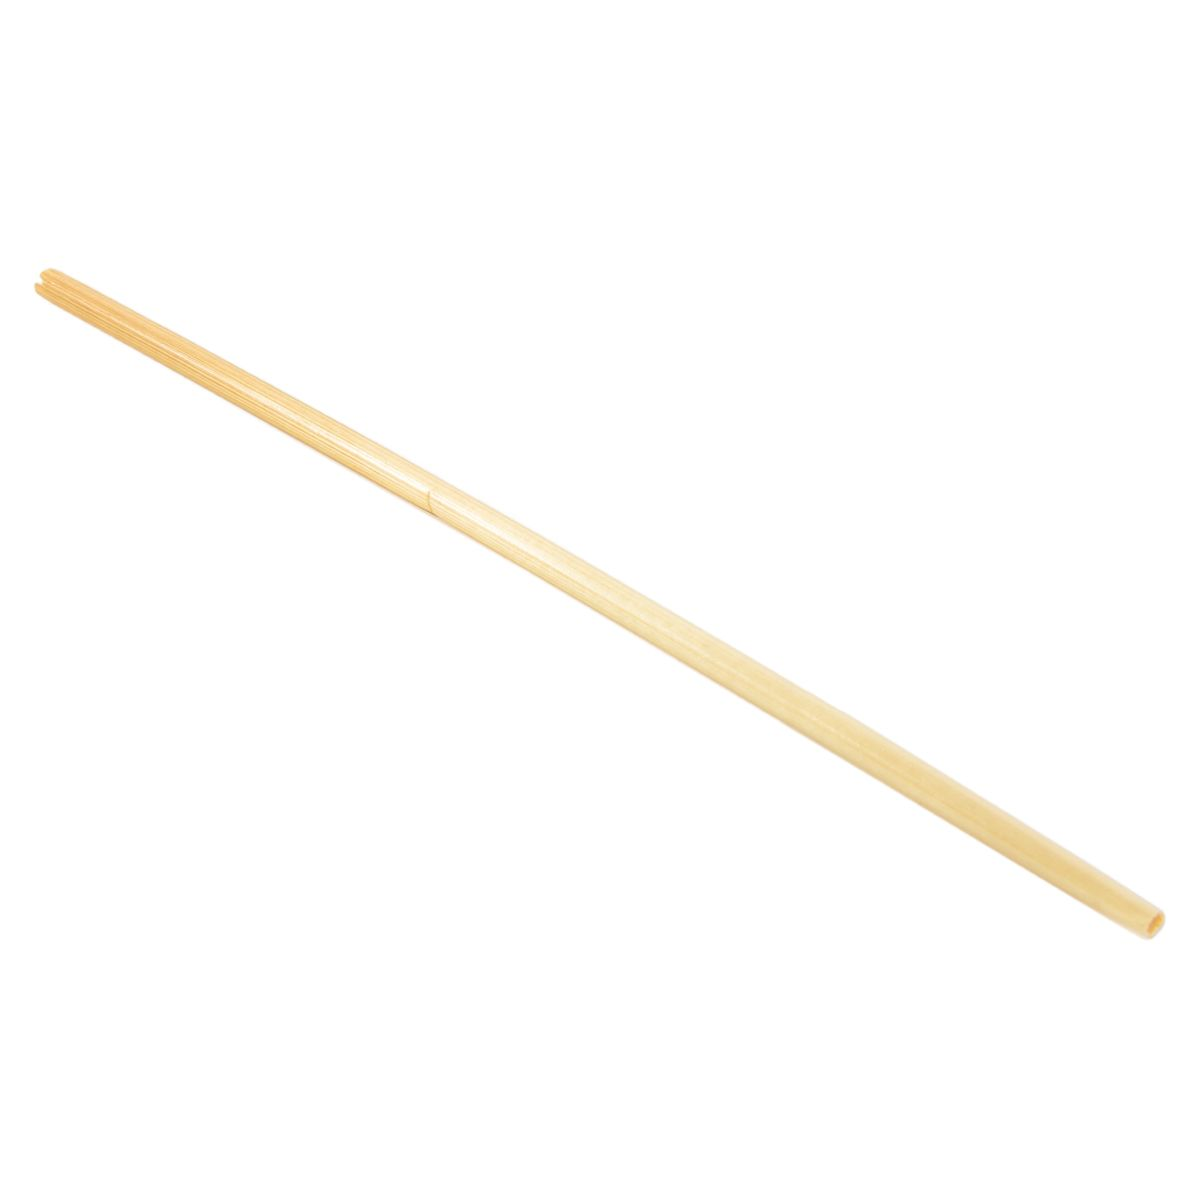Drinking Straw: (30, 255, 1176, 951)
